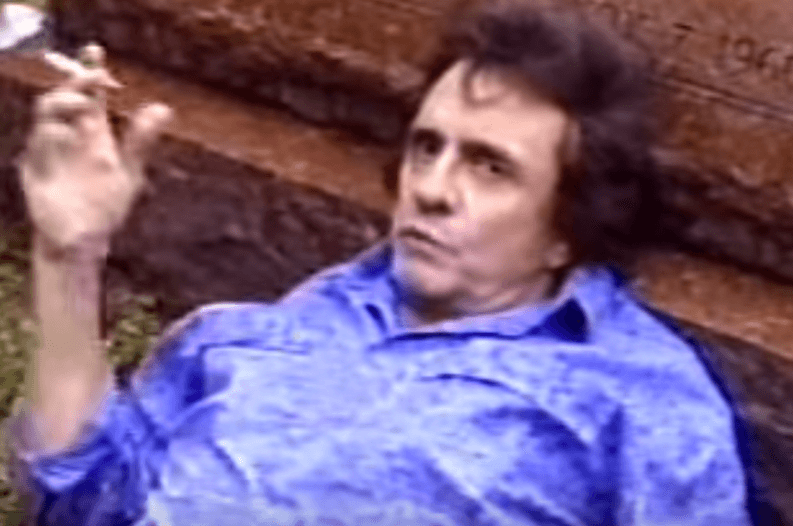cigarette: (35, 41, 130, 95)
